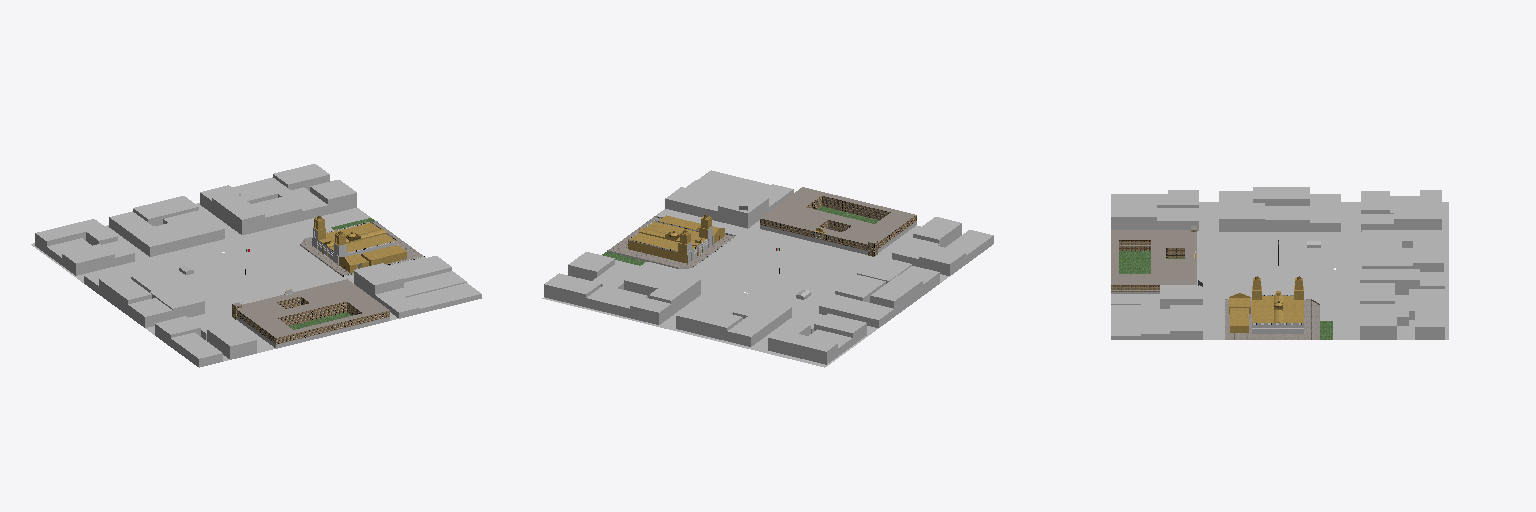
The picture shows the model from 3 angles: view 1: azimuth 30°, elevation 25°; view 2: azimuth 150°, elevation 25°; view 3: azimuth 270°, elevation 25°; orthographic projection.
Visible parts, largest first — view 1: object__6_healed_he8, object__6_healed_he3, object__6_healed_h10, object__6_healed_h11, object__6_healed_h15; view 2: object__6_healed_he8, object__6_healed_he3, object__6_healed_h10, object__6_healed_h11, object__6_healed_h15, object__6_healed_h14; view 3: object__6_healed_he8, object__6_healed_he3, object__6_healed_h10, object__6_healed_h15, object__6_healed_h14, object__6_healed_h11.
Boxes of the visible parts, x1=… form: object__6_healed_he8: x1=31, y1=164, x2=481, y2=367; object__6_healed_he3: x1=233, y1=279, x2=389, y2=337; object__6_healed_h10: x1=313, y1=217, x2=406, y2=272; object__6_healed_h11: x1=232, y1=297, x2=389, y2=344; object__6_healed_h15: x1=301, y1=222, x2=422, y2=274; object__6_healed_he8: x1=542, y1=170, x2=993, y2=367; object__6_healed_he3: x1=760, y1=187, x2=915, y2=244; object__6_healed_h10: x1=627, y1=215, x2=724, y2=263; object__6_healed_h11: x1=760, y1=196, x2=916, y2=256; object__6_healed_h15: x1=608, y1=217, x2=733, y2=267; object__6_healed_h14: x1=602, y1=206, x2=879, y2=265; object__6_healed_he8: x1=1111, y1=187, x2=1448, y2=339; object__6_healed_he3: x1=1111, y1=226, x2=1196, y2=284; object__6_healed_h10: x1=1229, y1=278, x2=1303, y2=332; object__6_healed_h15: x1=1225, y1=300, x2=1319, y2=339; object__6_healed_h14: x1=1119, y1=251, x2=1332, y2=339; object__6_healed_h11: x1=1111, y1=229, x2=1196, y2=291.
Bounding box in the file's own units: 83218 × 8664 × 85923.
Materials: 16 (9 with a texture image).